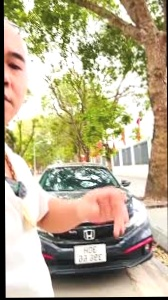Bien-so: (72, 247, 104, 267)
